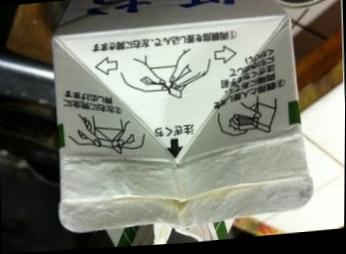cardboard: (53, 0, 312, 246)
